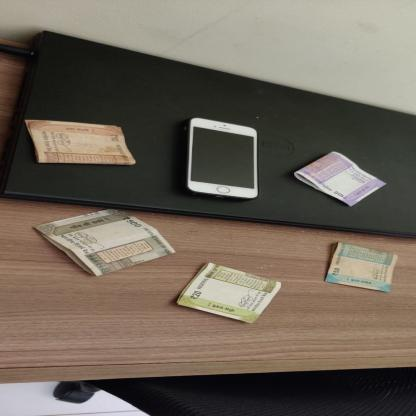New100Back: (293, 151, 388, 207)
New10Back: (24, 119, 136, 165)
New20Back: (176, 262, 282, 324)
New500Back: (32, 208, 177, 276)
New50Back: (324, 241, 398, 292)
